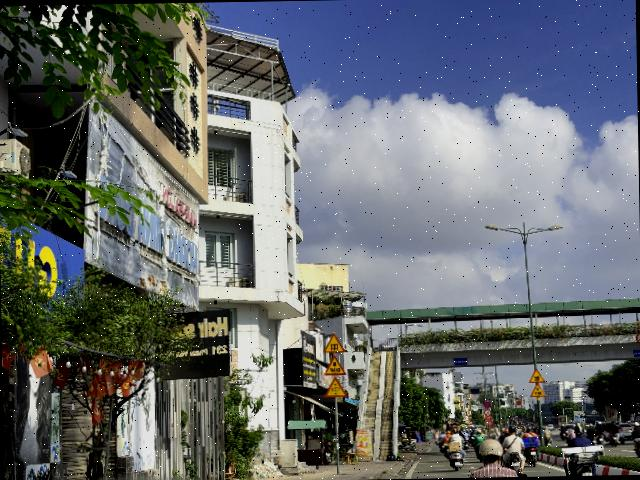chieu-cao-tinh-khong-thuc-te: (324, 376, 347, 397)
di-cham: (324, 354, 346, 374), (530, 382, 546, 397)
han-che-chieu-cao: (635, 330, 640, 345)
noi-giao-nhau-voi-duong-sat-co-rao-chan: (324, 332, 346, 353), (528, 368, 546, 382)
